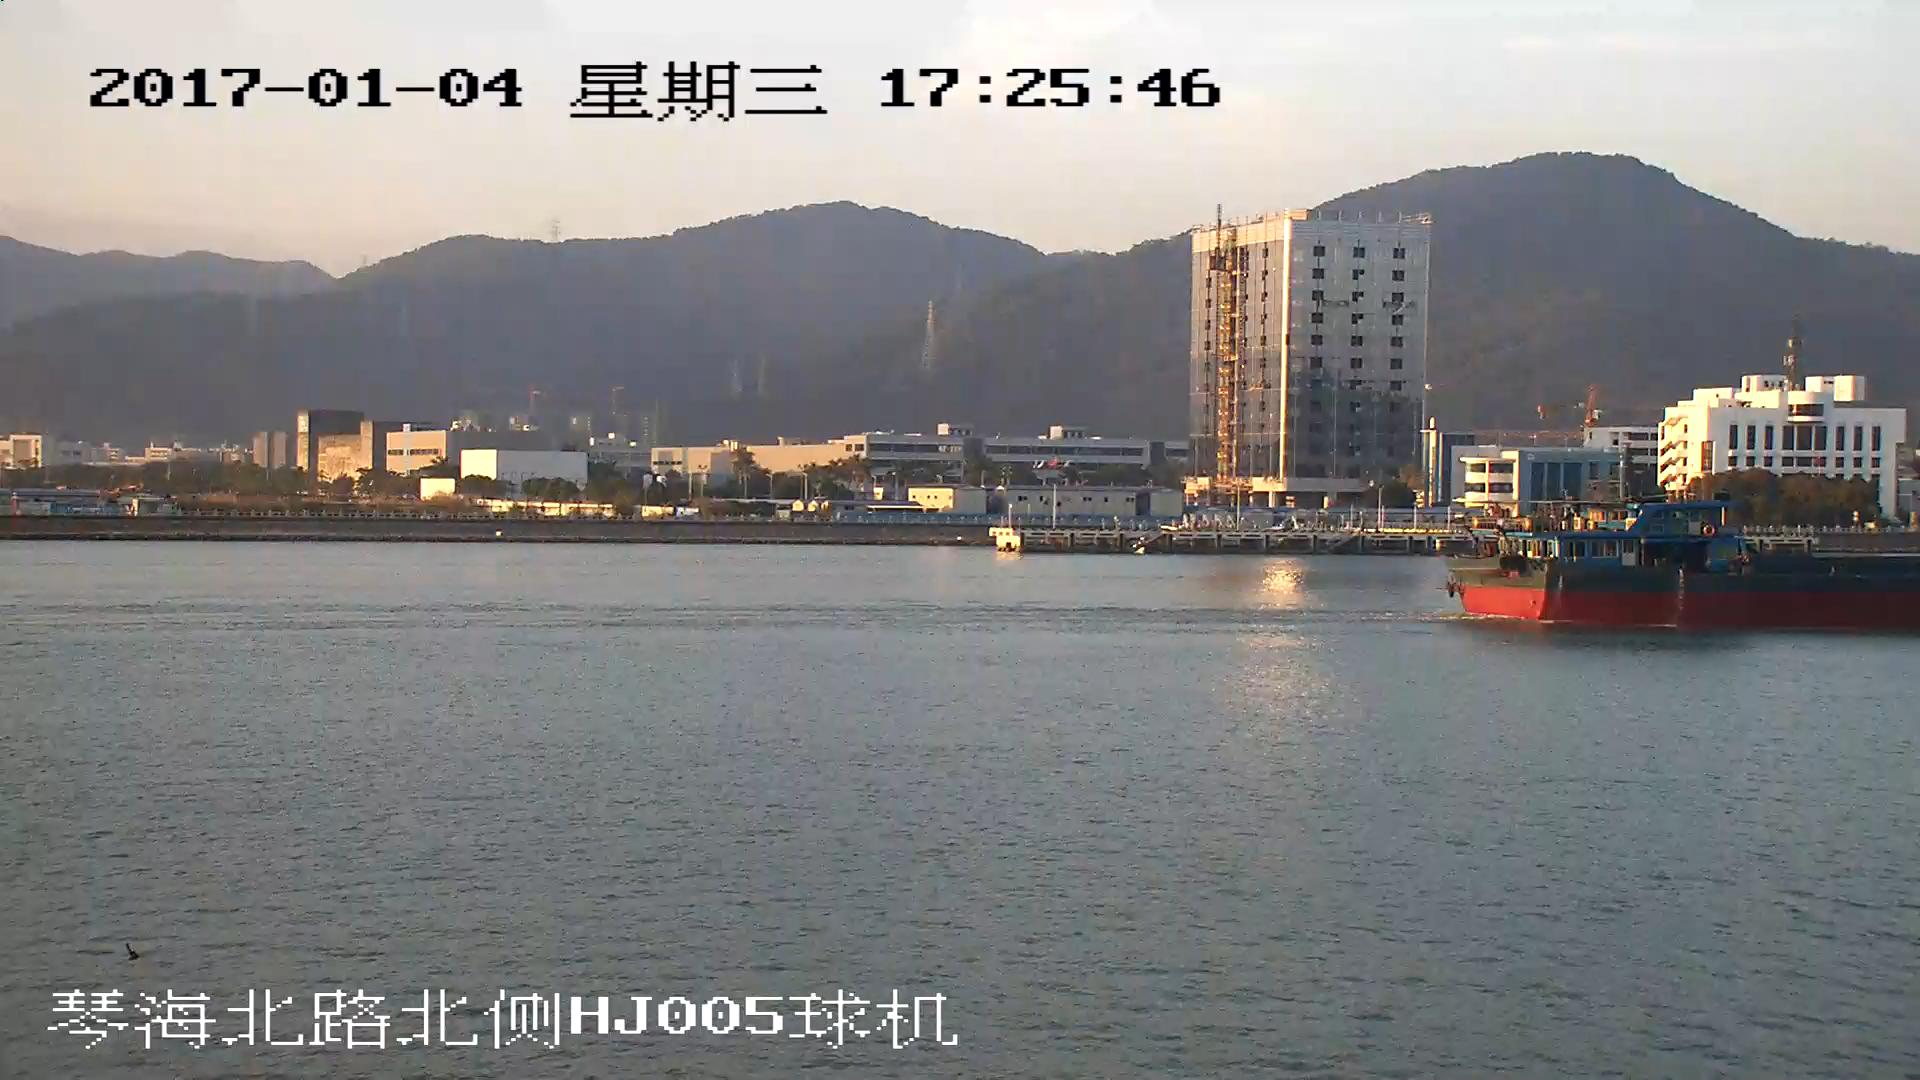general cargo ship: (1447, 506, 1920, 632)
